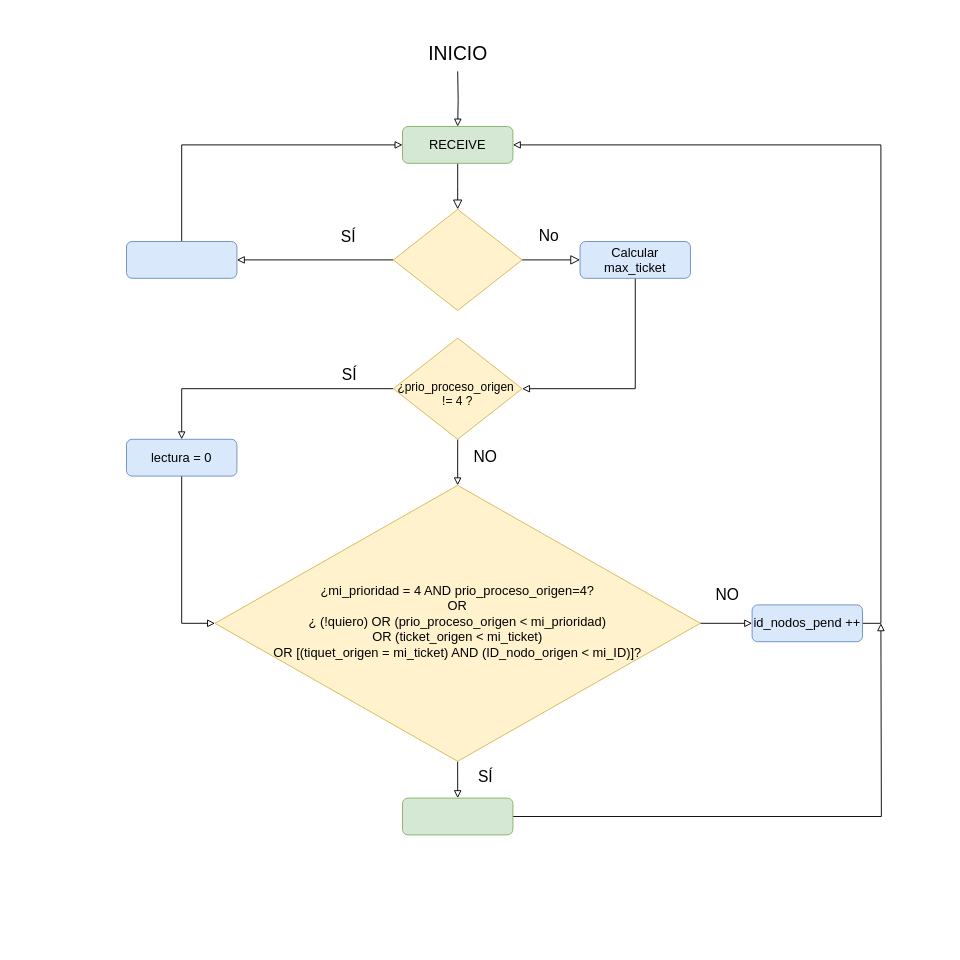
Image size: 960x960. Some labels were removed from this diagram. Each missing label, with the centre of its shape:
lectura = 1: the point at 181,259
SEND (REPLY): the point at 457,816
¿ID_proceso.origen == -1 ?: the point at 457,259
